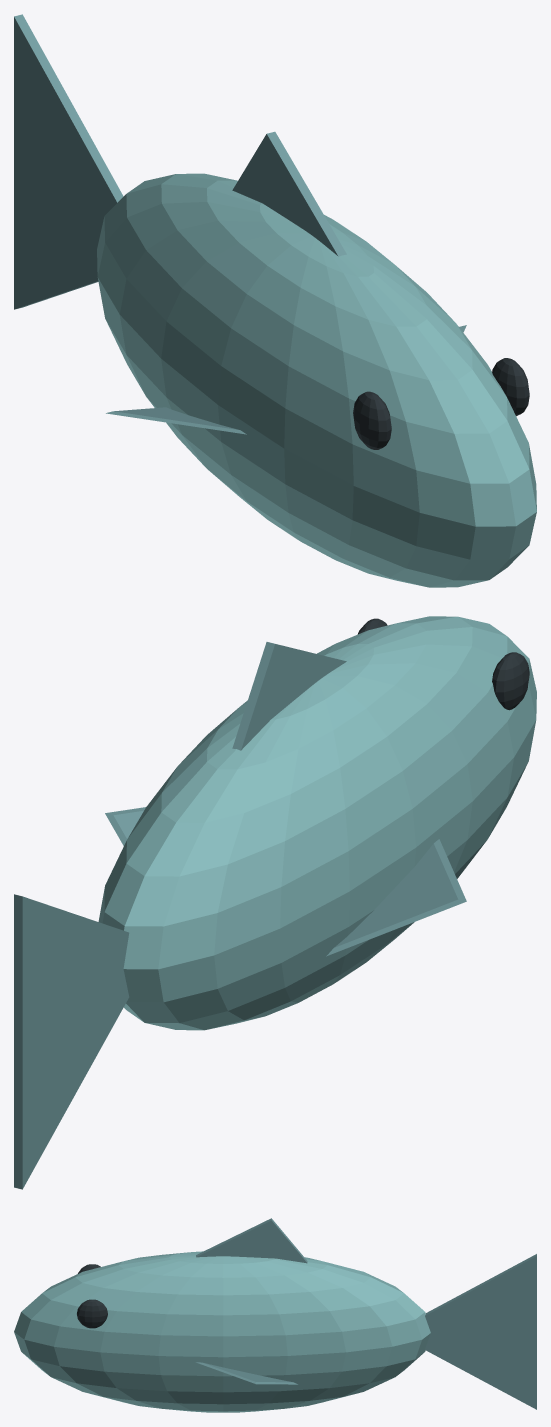
Rendered from river-fish.glb.
The picture shows the model from 3 angles, top to bottom: view 1: azimuth 30°, elevation 25°; view 2: azimuth 150°, elevation 25°; view 3: azimuth 270°, elevation 25°; orthographic projection. The views are drawn at different scales.
Visible parts, largest first — view 1: river fish body.001, tail.001, dorsal.001, fish eye.002, fish eye.003, pectoral.002; view 2: river fish body.001, tail.001, pectoral.002, dorsal.001, fish eye.002, pectoral.003; view 3: river fish body.001, tail.001, dorsal.001, fish eye.003, pectoral.003.
Boxes of the visible parts, <box> form: river fish body.001: <box>97,173,536,587</box>; tail.001: <box>14,14,123,309</box>; dorsal.001: <box>232,131,346,256</box>; fish eye.002: <box>353,391,391,449</box>; fish eye.003: <box>492,358,529,416</box>; pectoral.002: <box>106,407,246,434</box>; river fish body.001: <box>98,616,536,1030</box>; tail.001: <box>14,894,129,1189</box>; pectoral.002: <box>326,839,466,956</box>; dorsal.001: <box>232,642,346,750</box>; fish eye.002: <box>492,652,529,710</box>; pectoral.003: <box>105,807,145,845</box>; river fish body.001: <box>14,1251,430,1412</box>; tail.001: <box>425,1254,536,1409</box>; dorsal.001: <box>196,1218,307,1263</box>; fish eye.003: <box>77,1299,107,1328</box>; pectoral.003: <box>196,1362,297,1384</box>.
Size of the model in its own units: 0.168 by 0.16 by 0.4.
